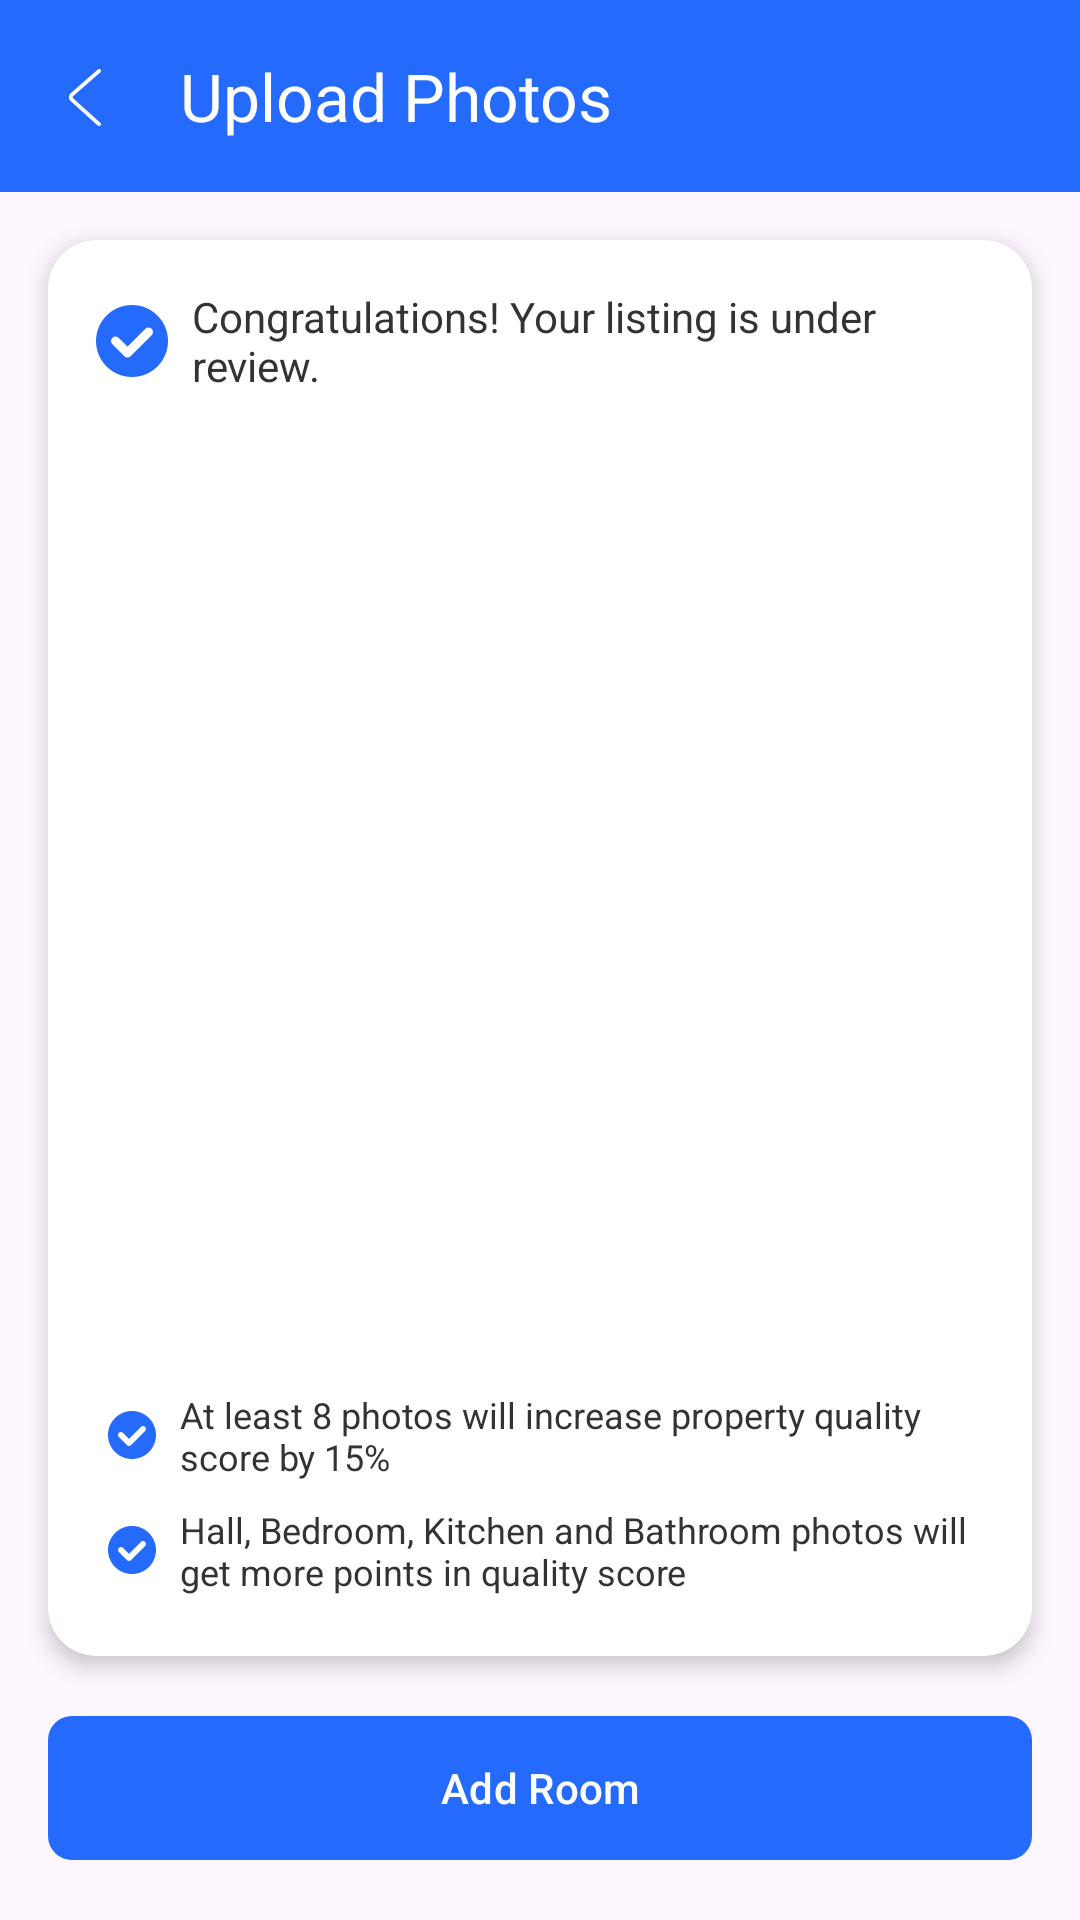

Locate icon controls on the screen. Image size 1080px×1920px, boxes as (x1, y1, x2, y2).
check circle: (96, 305, 168, 377), (108, 1411, 156, 1459), (108, 1526, 156, 1574)
